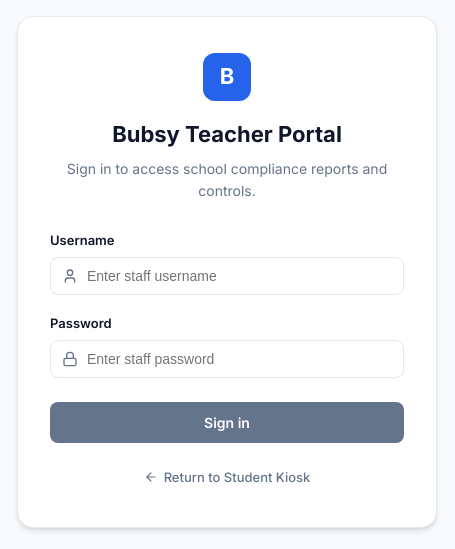
LoginPage Component › enables submit button after typing username and password
Type "mrs_smith" into the field labelled "Username".
click(227, 276); type("mrs_smith")  # box [50,257,404,295]
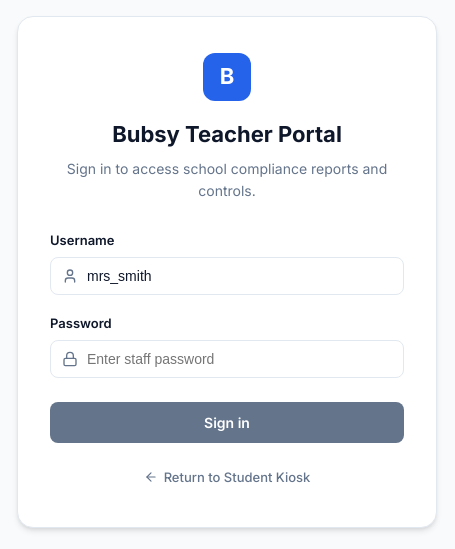
Type "SchoolPass123!" into the password field labelled "Password".
click(227, 359); type("SchoolPass123!")  # box [50,340,404,378]
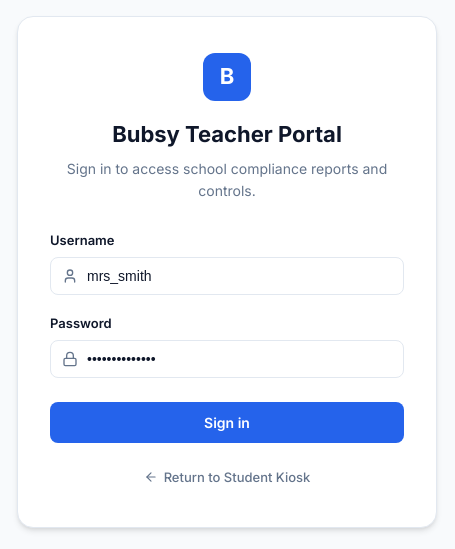
Check: the button "Sign in" is enabled, box [50,402,404,443]
